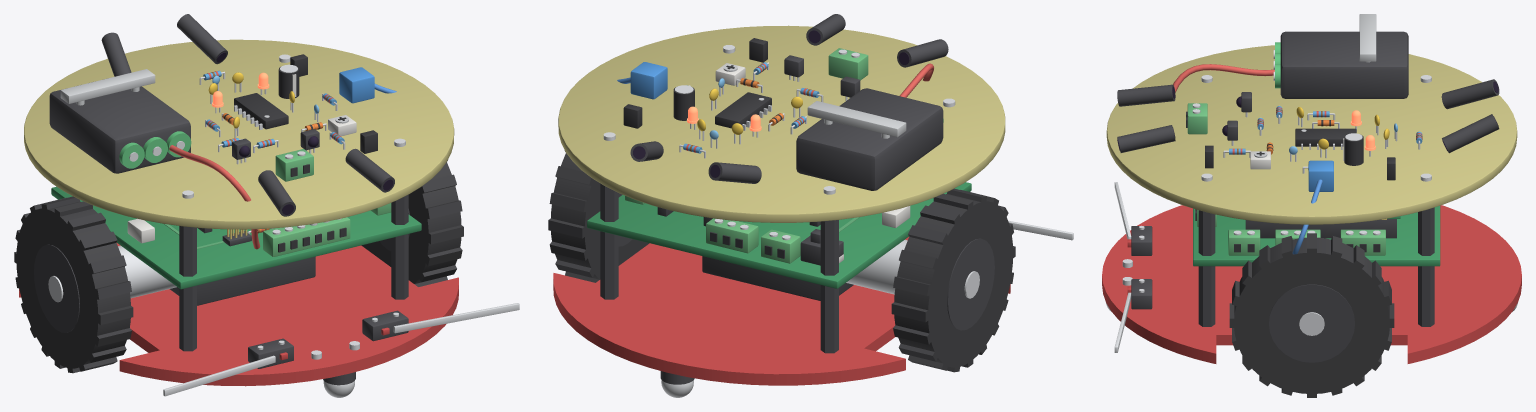
File: micromouse.glb
The picture shows the model from 3 angles, left to right: view 1: azimuth 30°, elevation 25°; view 2: azimuth 150°, elevation 25°; view 3: azimuth 270°, elevation 25°; orthographic projection. The views are drawn at different scales.
Visible parts, largest first — view 1: PCB_Top_IR_FR4, Chassis_Red_Base, Wheel_Left, PCB_Middle_Carrier, Battery_Pack_Wrap, Wheel_Right, Motor_Mount_Block, Standoff_1, Term_Front_6P_Body, Standoff_2, Battery_Top_Bar, Motor_Body_Main (+17 smaller); view 2: PCB_Top_IR_FR4, Chassis_Red_Base, Wheel_Left, PCB_Middle_Carrier, Battery_Pack_Wrap, Wheel_Right, Standoff_3, Motor_Mount_Block, Standoff_4, Battery_Top_Bar, Motor_Body_Main, Term_Rear_3P_Body (+10 smaller); view 3: PCB_Top_IR_FR4, Chassis_Red_Base, Wheel_Right, Battery_Pack_Wrap, PCB_Middle_Carrier, Standoff_2, Standoff_4, Pico_Rail_R, Sensor_Rear_R, Sensor_Front_R, Sensor_Front_L, Sensor_Rear_L (+10 smaller).
Boxes of the visible parts, x1,y1,x2,y2 form: PCB_Top_IR_FR4: (24, 39, 454, 229); Chassis_Red_Base: (19, 242, 458, 386); Wheel_Left: (14, 196, 133, 373); PCB_Middle_Carrier: (51, 186, 421, 289); Battery_Pack_Wrap: (49, 86, 190, 173); Wheel_Right: (361, 160, 463, 286); Motor_Mount_Block: (170, 256, 315, 305); Standoff_1: (179, 226, 196, 351); Term_Front_6P_Body: (263, 217, 350, 256); Standoff_2: (391, 194, 408, 299); Battery_Top_Bar: (60, 69, 155, 103); Motor_Body_Main: (118, 245, 176, 298); PCB_Top_IR_FR4: (558, 25, 1005, 222); Chassis_Red_Base: (553, 236, 1010, 385); Wheel_Left: (891, 188, 1015, 372); PCB_Middle_Carrier: (587, 182, 971, 288); Battery_Pack_Wrap: (796, 88, 943, 190); Wheel_Right: (548, 150, 649, 282); Standoff_3: (820, 220, 838, 353); Motor_Mount_Block: (702, 256, 853, 300); Standoff_4: (600, 183, 618, 299); Battery_Top_Bar: (807, 101, 906, 137); Motor_Body_Main: (846, 239, 907, 294); Term_Rear_3P_Body: (706, 218, 758, 253); PCB_Top_IR_FR4: (1106, 45, 1517, 224); Chassis_Red_Base: (1102, 205, 1521, 363); Wheel_Right: (1229, 233, 1394, 397); Battery_Pack_Wrap: (1280, 31, 1408, 98); PCB_Middle_Carrier: (1193, 206, 1440, 266); Standoff_2: (1198, 210, 1215, 326); Standoff_4: (1418, 207, 1434, 326); Pico_Rail_R: (1245, 219, 1396, 238); Sensor_Rear_R: (1442, 114, 1499, 153); Sensor_Front_R: (1117, 125, 1175, 152); Sensor_Front_L: (1117, 84, 1175, 106); Sensor_Rear_L: (1441, 79, 1499, 109).
Size of the model in its own units: 1.76 by 1.1 by 1.8.
